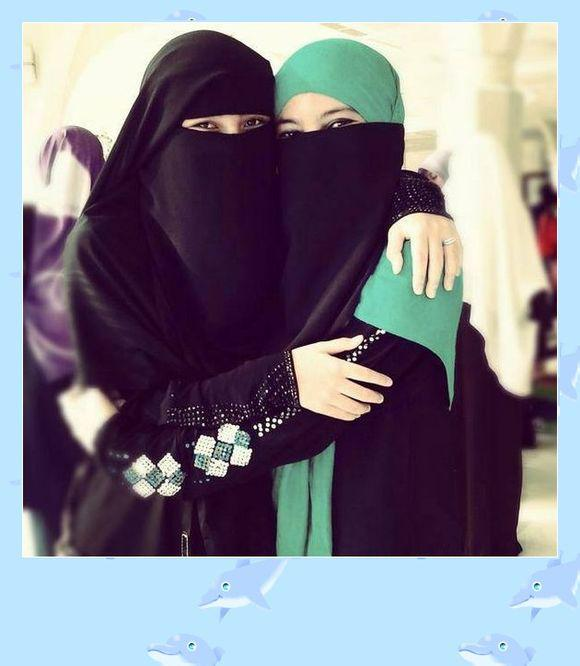OK: (167, 95, 276, 209), (280, 108, 377, 219)
